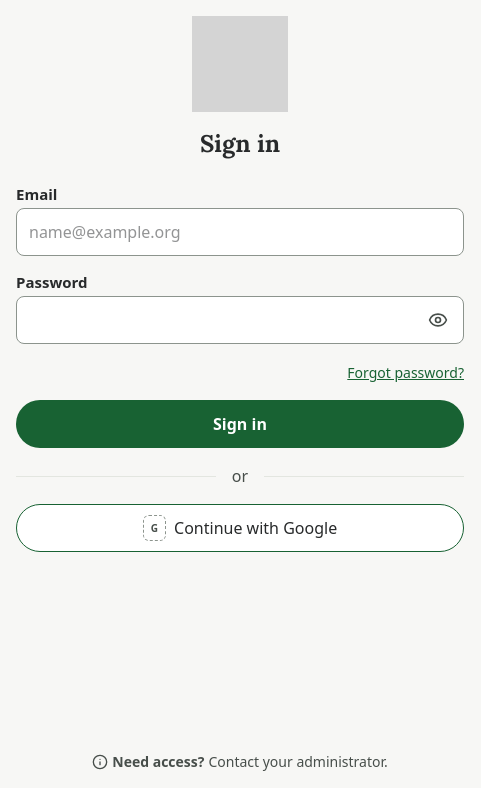
login navigation › waits for both authentication and login success when mutation finishes first
Expected: the heading "Sign in" is shown, [200, 128, 280, 160]
Type "person@example.org" into the field labelled "Email" at x=240, y=232, box [16, 208, 464, 256]
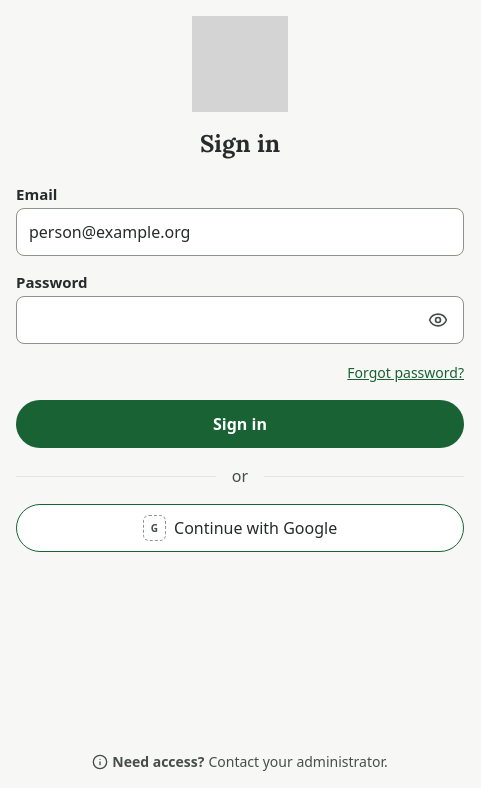
Type "a-long-password" into the password field labelled "Password" at x=240, y=320, box [16, 296, 464, 344]
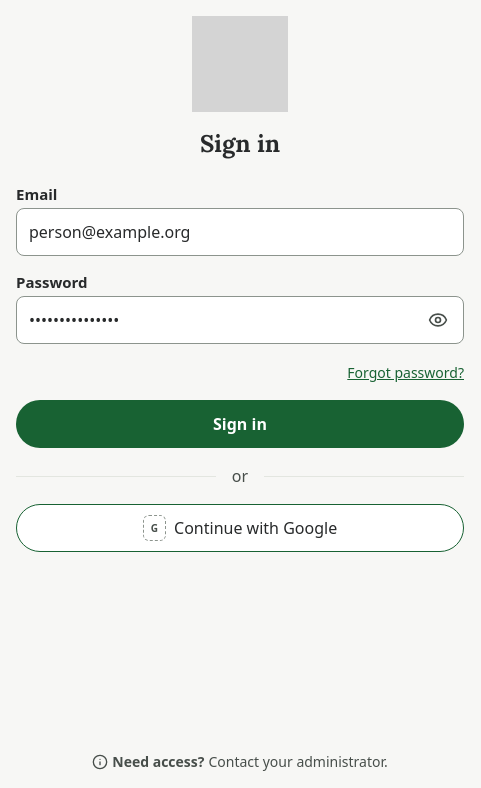
Click the button "Sign in" at x=240, y=424, box [16, 400, 464, 448]
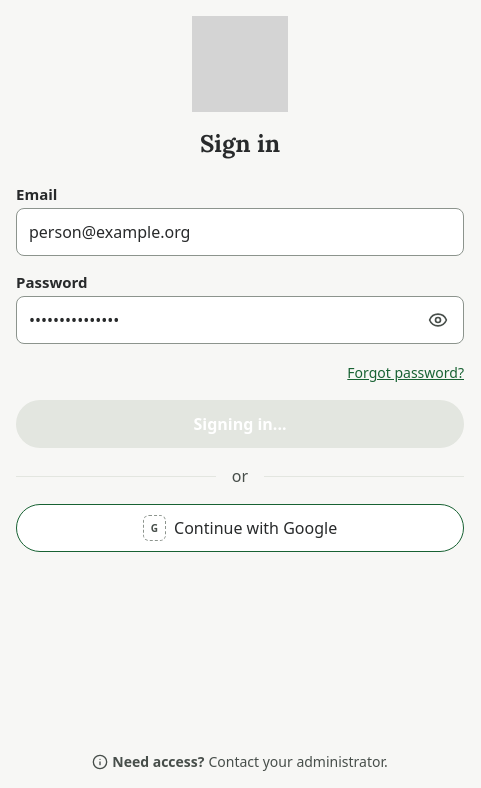
Expected: the button "Signing in..." is disabled, [16, 400, 464, 448]
